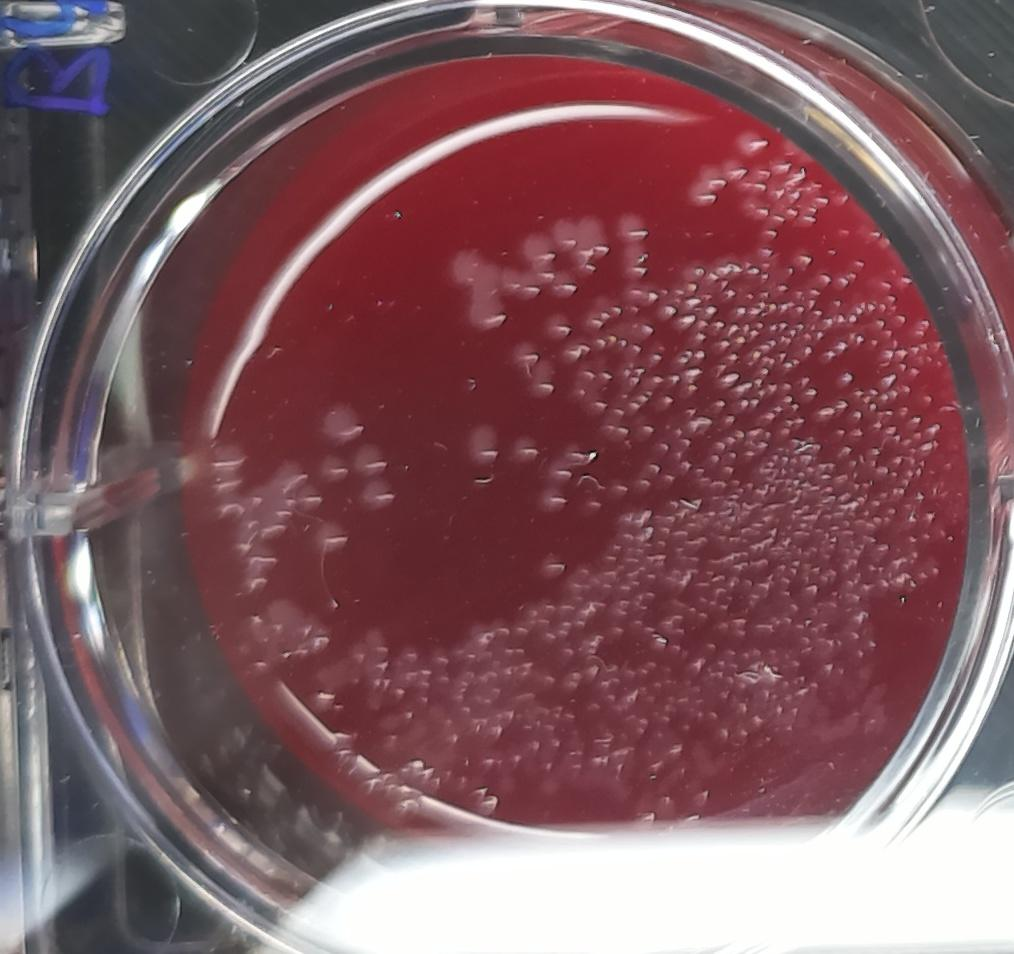pdpiscicida: (448, 247, 507, 335), (315, 400, 364, 448), (205, 437, 246, 493), (544, 442, 596, 480), (462, 423, 501, 468), (687, 165, 727, 208), (351, 440, 389, 479), (520, 228, 556, 268), (360, 476, 396, 515), (311, 518, 348, 555), (524, 361, 554, 402), (735, 128, 770, 162), (534, 484, 570, 517), (616, 211, 650, 245), (619, 246, 651, 280), (319, 451, 351, 484), (541, 312, 573, 344), (508, 433, 539, 465), (295, 481, 325, 514), (509, 338, 539, 369), (536, 551, 566, 580), (551, 270, 578, 300), (580, 496, 602, 519), (834, 370, 855, 391), (793, 251, 814, 272), (607, 483, 629, 503)
